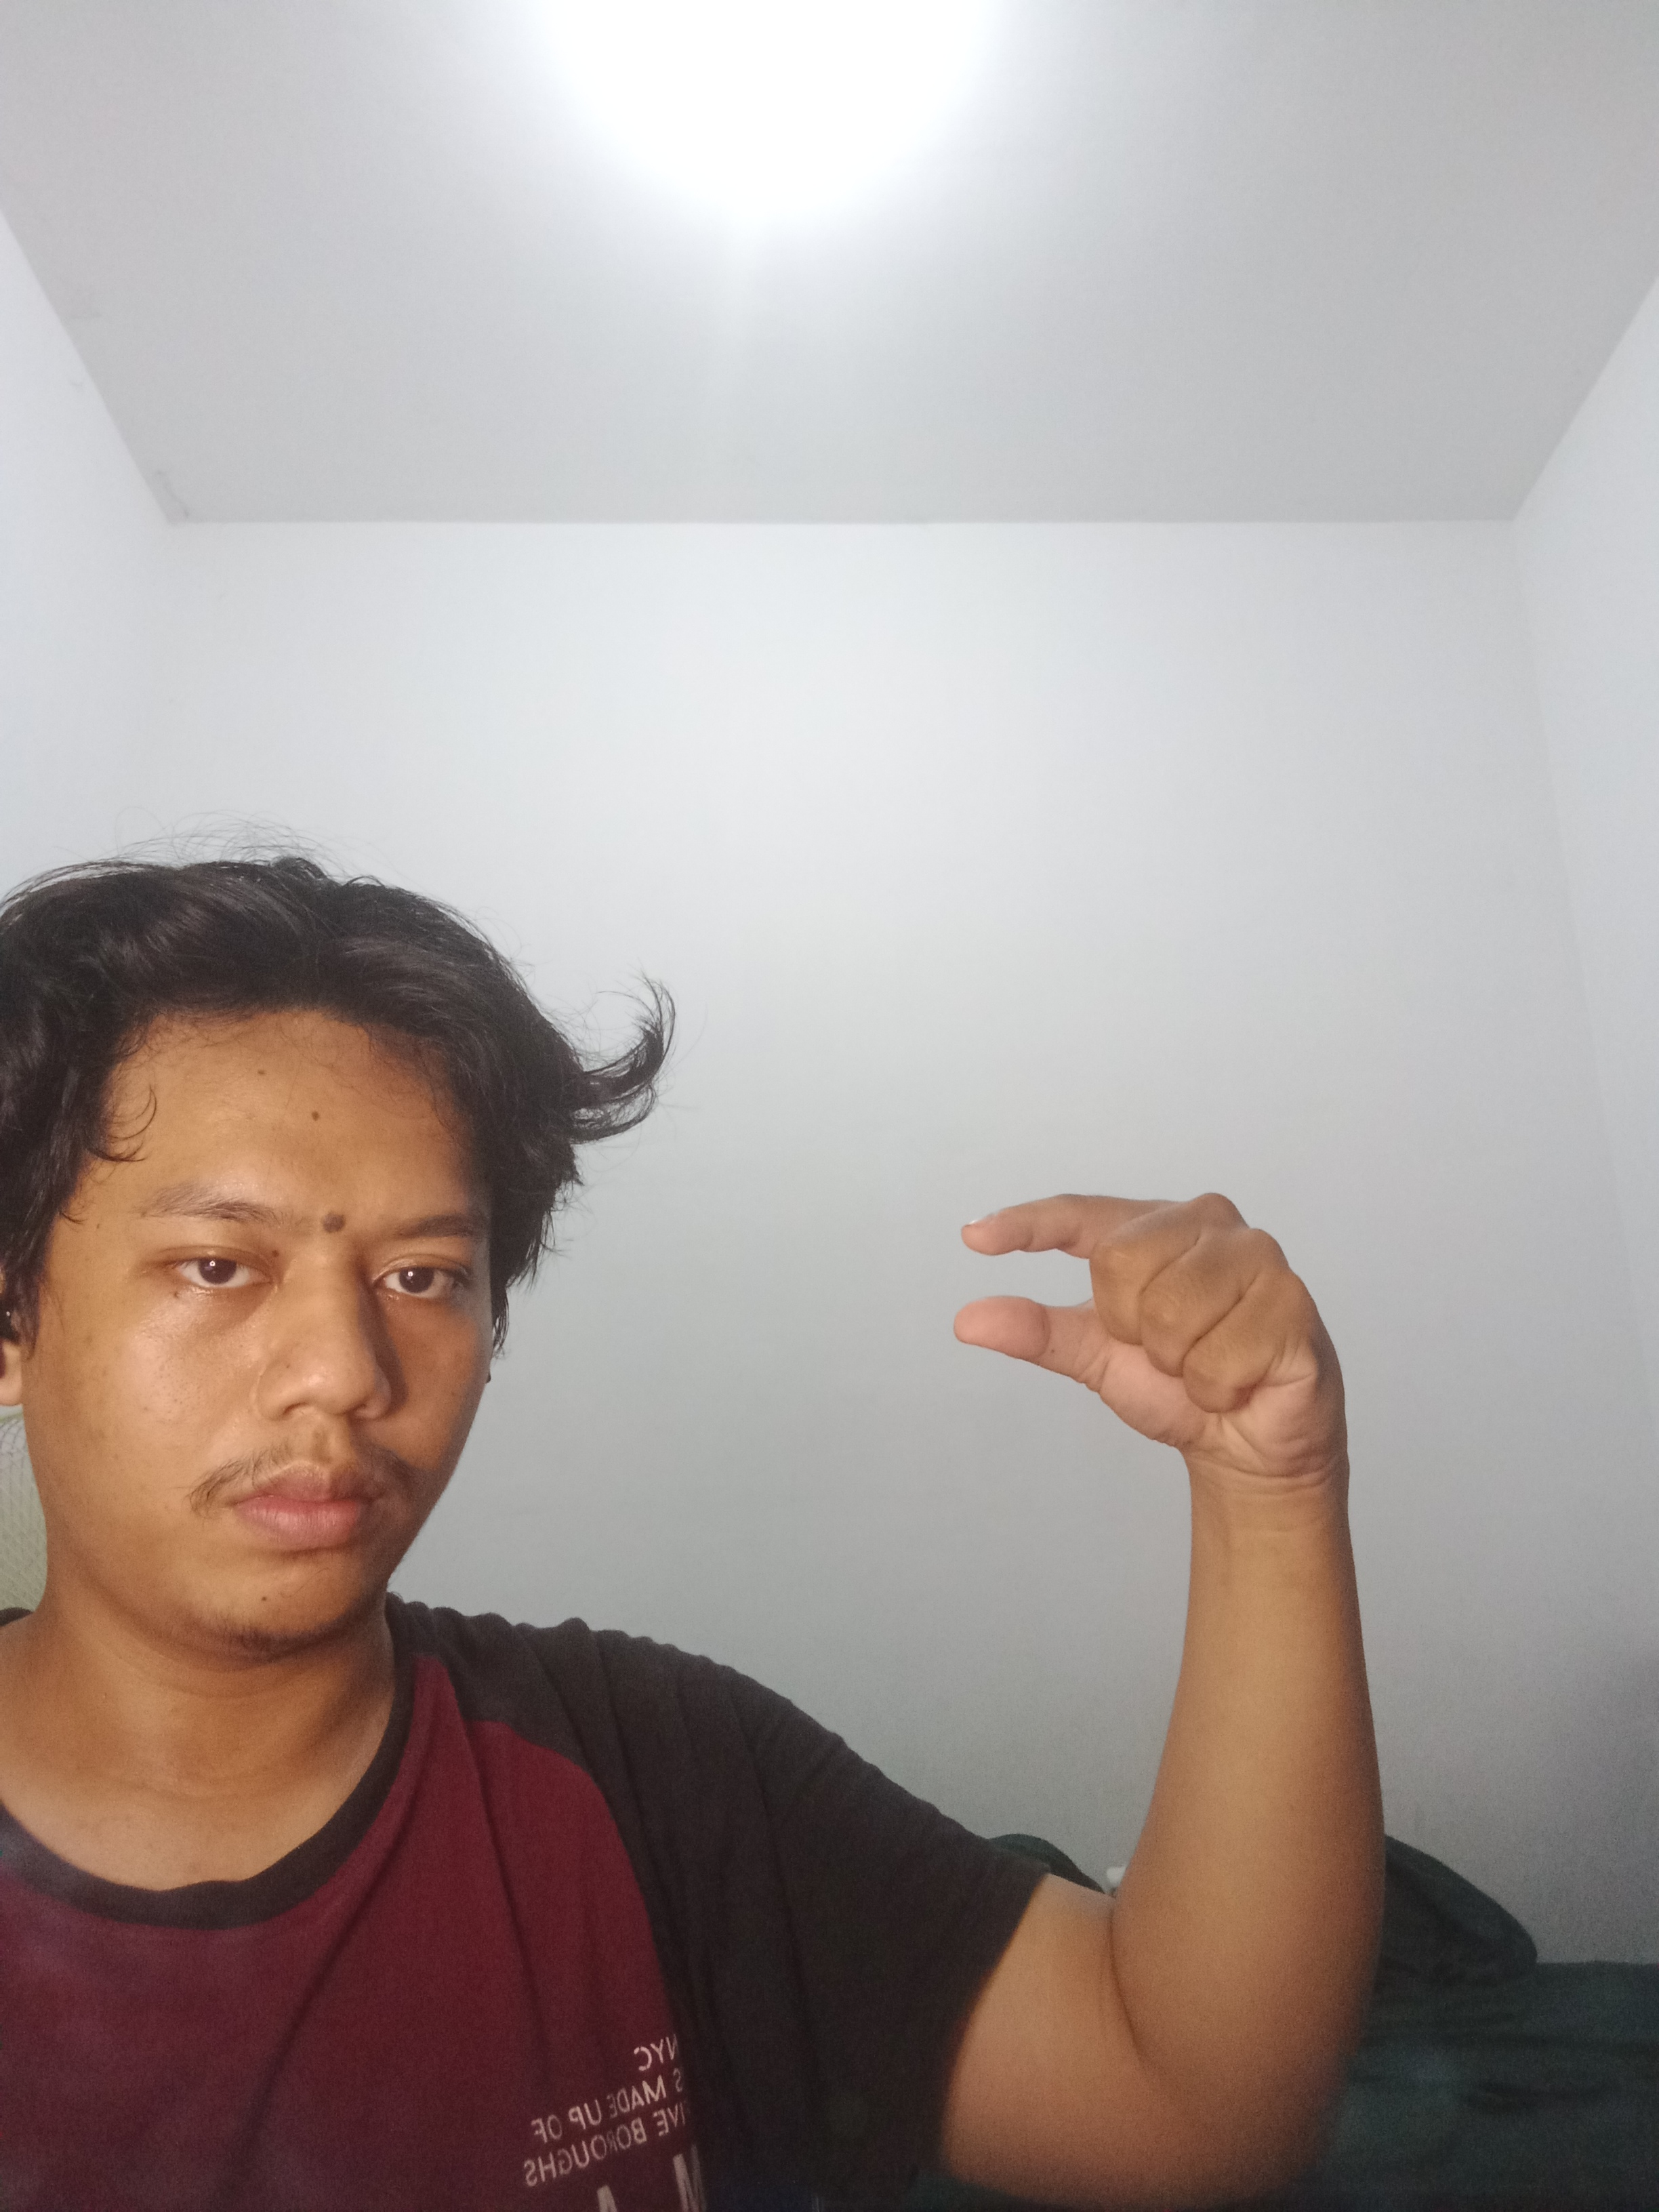G: (929, 1174, 1389, 1503)
